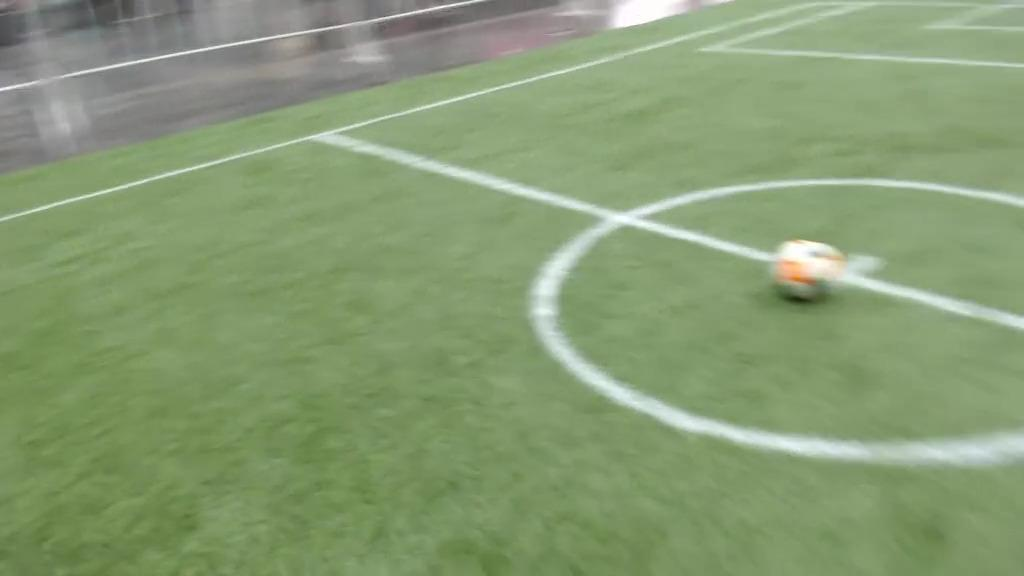ball: (775, 240, 841, 299)
